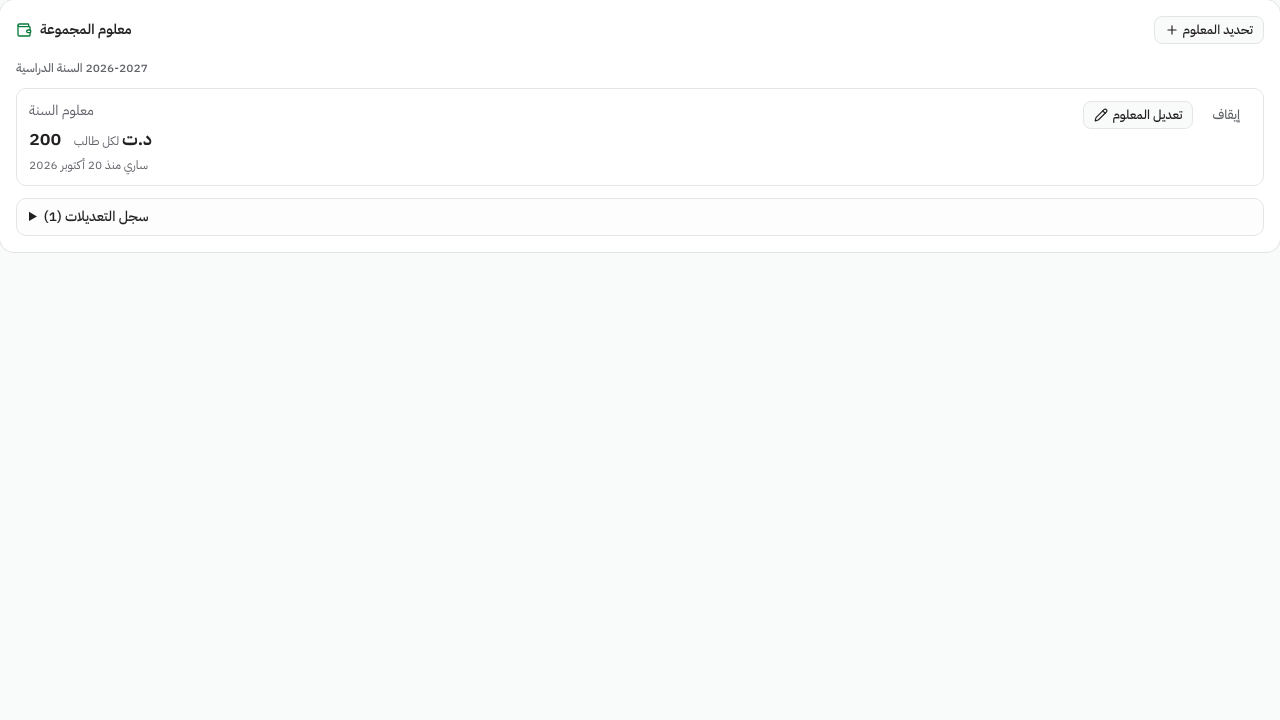
Test: «معلوم المجموعة» › the form keeps only the label, the year (locked when editing) and the total per student
Click the button "تعديل المعلوم" at (1138, 115), box [1083,101,1193,129]
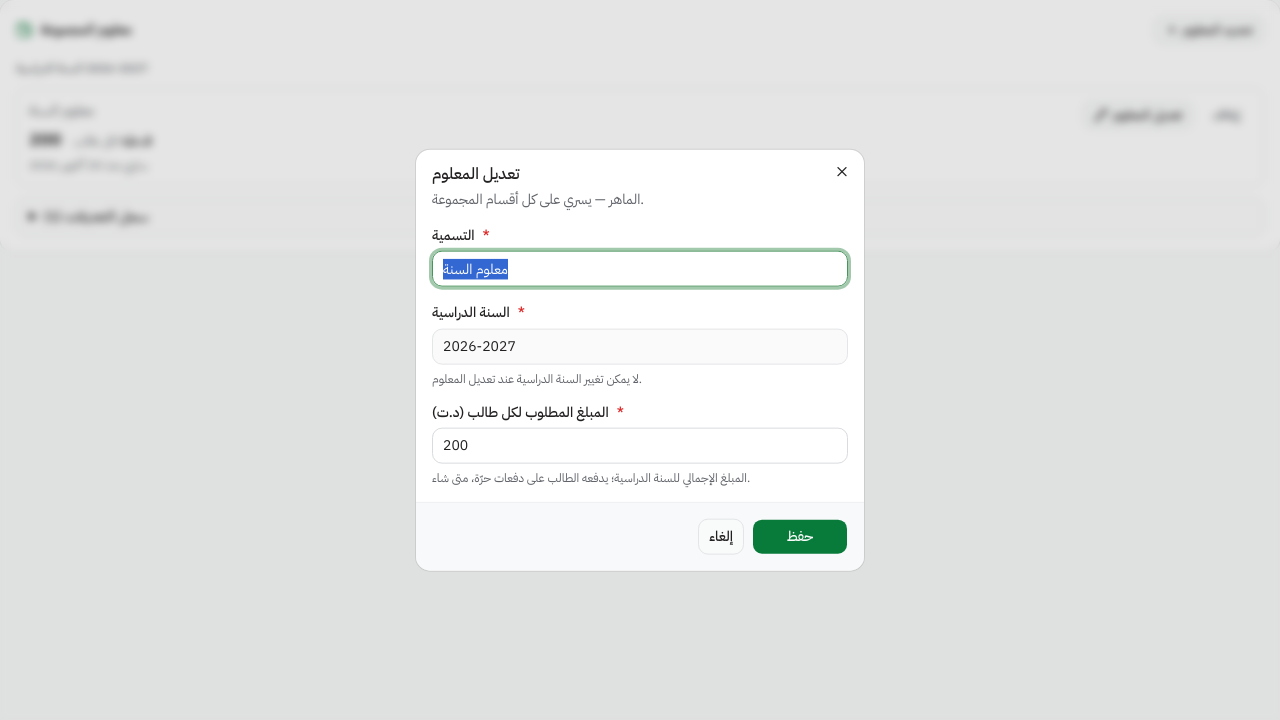
Now the field labelled "التسمية *" is shown, box [432,251,848,287]
Now the text "لا يمكن تغيير السنة الدراسية عند تعديل المعلوم." is shown, box [432,369,642,387]
Now the number field labelled "المبلغ المطلوب لكل طالب (د.ت) *" holds "200", box [432,427,848,463]
